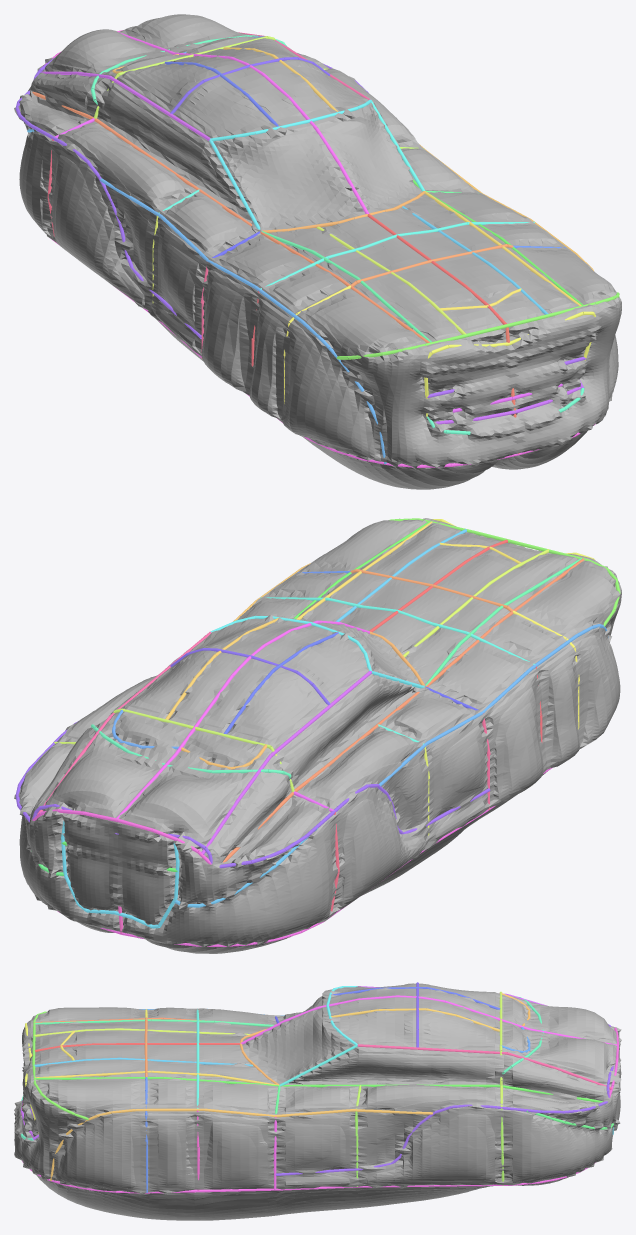
File: t2f_car_97.gltf
3 renders of one model, top to bottom at view 1: azimuth 30°, elevation 25°; view 2: azimuth 150°, elevation 25°; view 3: azimuth 270°, elevation 25°, orthographic. The views are drawn at different scales.
Bounding box in the file's own units: 0.4063 × 0.3099 × 0.9047.
